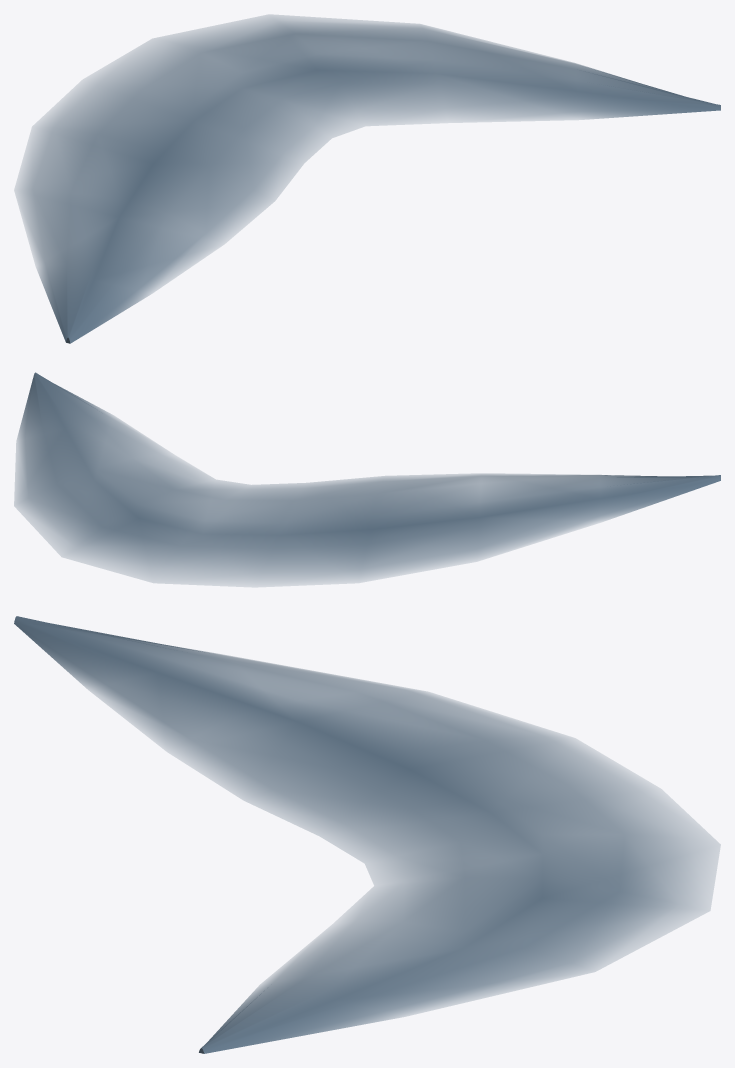
Rendered from mist_sheet_c.glb.
3 renders of one model, top to bottom at view 1: azimuth 30°, elevation 25°; view 2: azimuth 150°, elevation 25°; view 3: azimuth 270°, elevation 25°, orthographic. The views are drawn at different scales.
Parts seen in each view (by area): view 1: mist_sheet_c; view 2: mist_sheet_c; view 3: mist_sheet_c.
Boxes of the visible parts, x1,y1,x2,y2 form: mist_sheet_c: [14, 14, 720, 343]; mist_sheet_c: [14, 372, 720, 586]; mist_sheet_c: [14, 616, 720, 1053].
Size of the model in its own units: 26 by 0.6 by 18.
